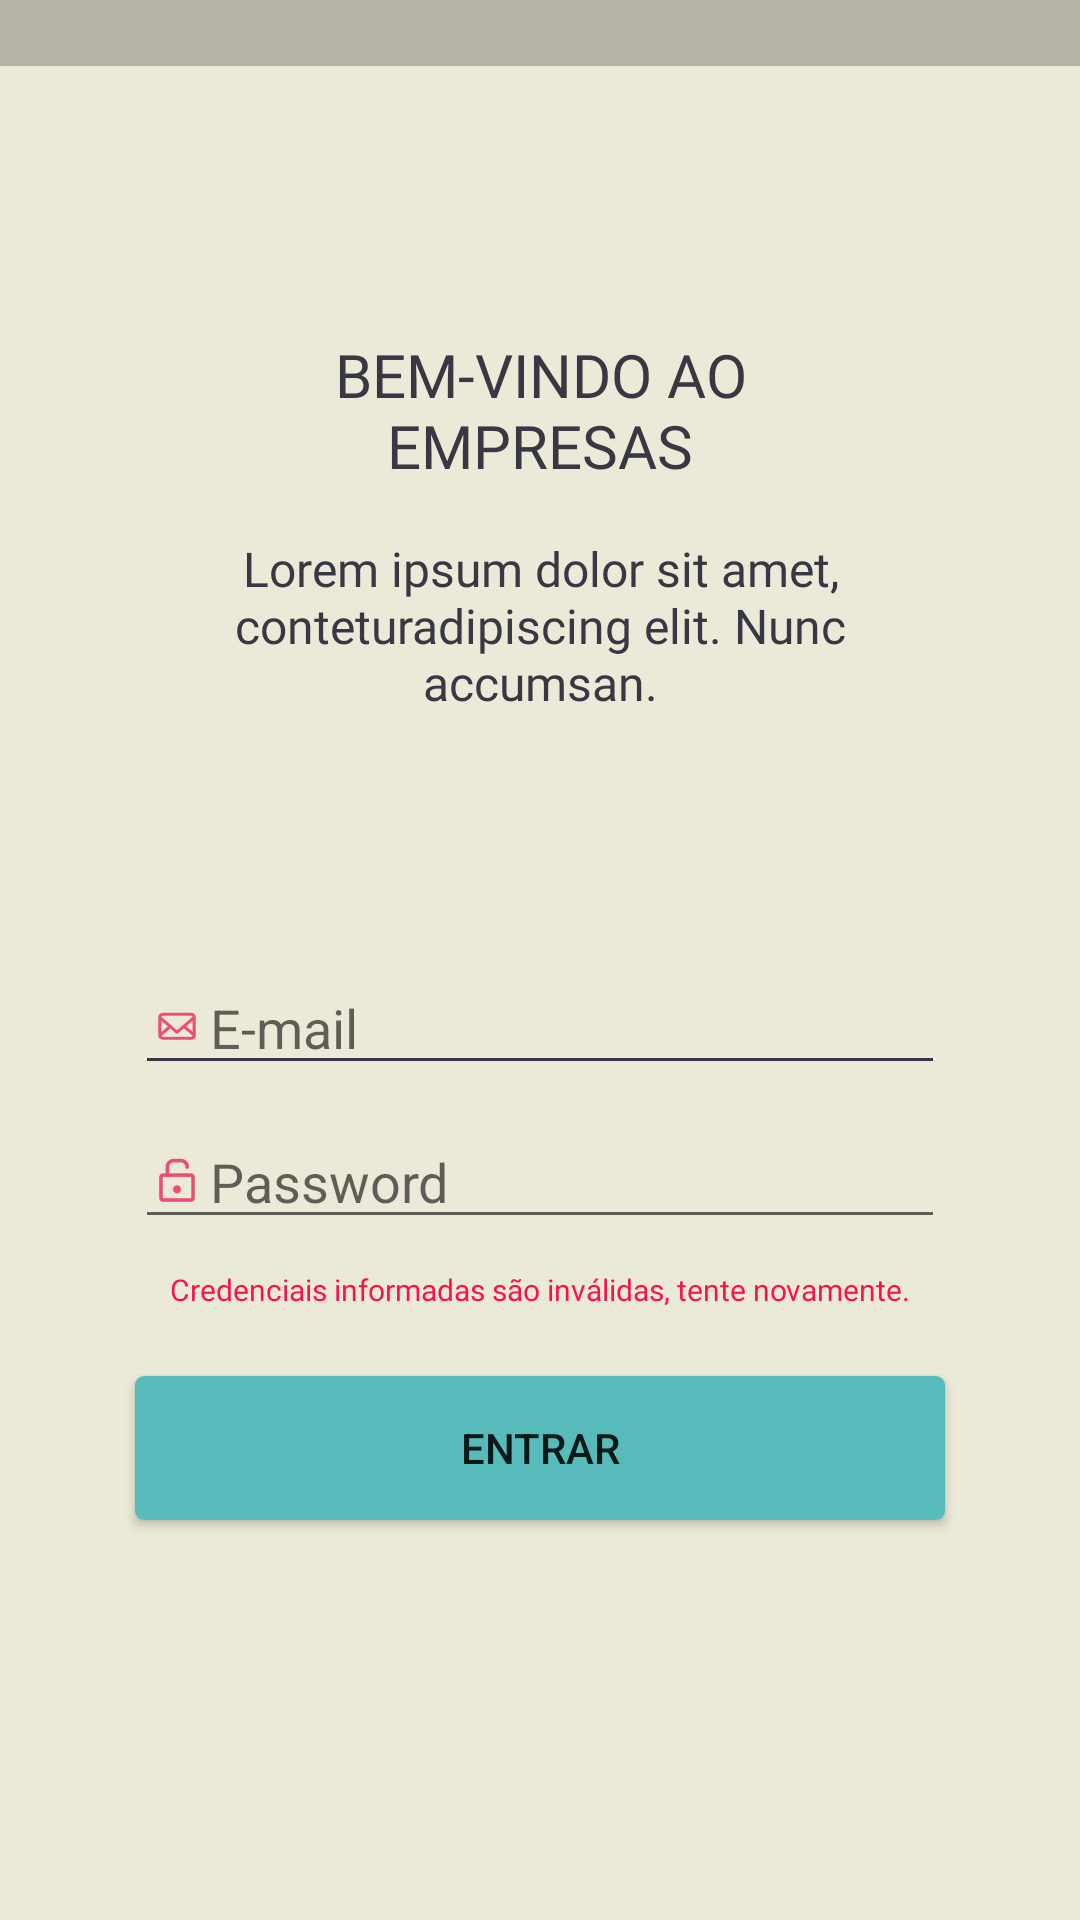

Icons on this 1080px×1920px Android screen, each with its box as (x1, y1, x2, y2):
cadeado: (159, 1158, 195, 1202)
